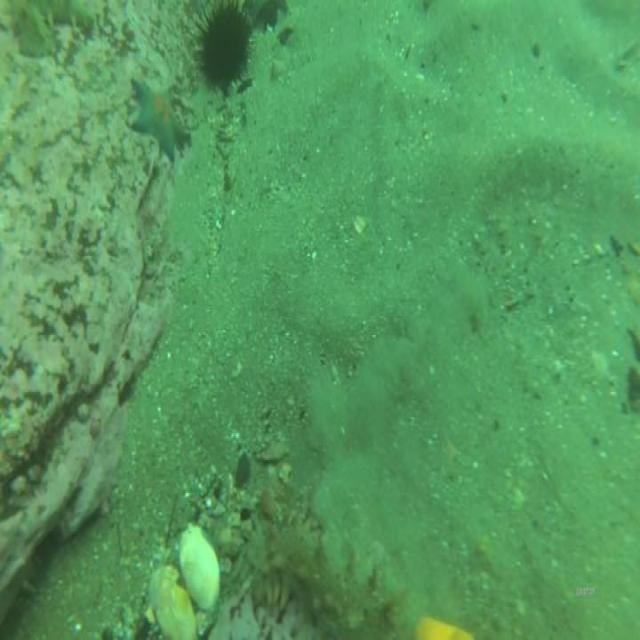echinus: (196, 6, 252, 95)
holothurian: (263, 513, 412, 640)
starfish: (131, 74, 193, 164)
